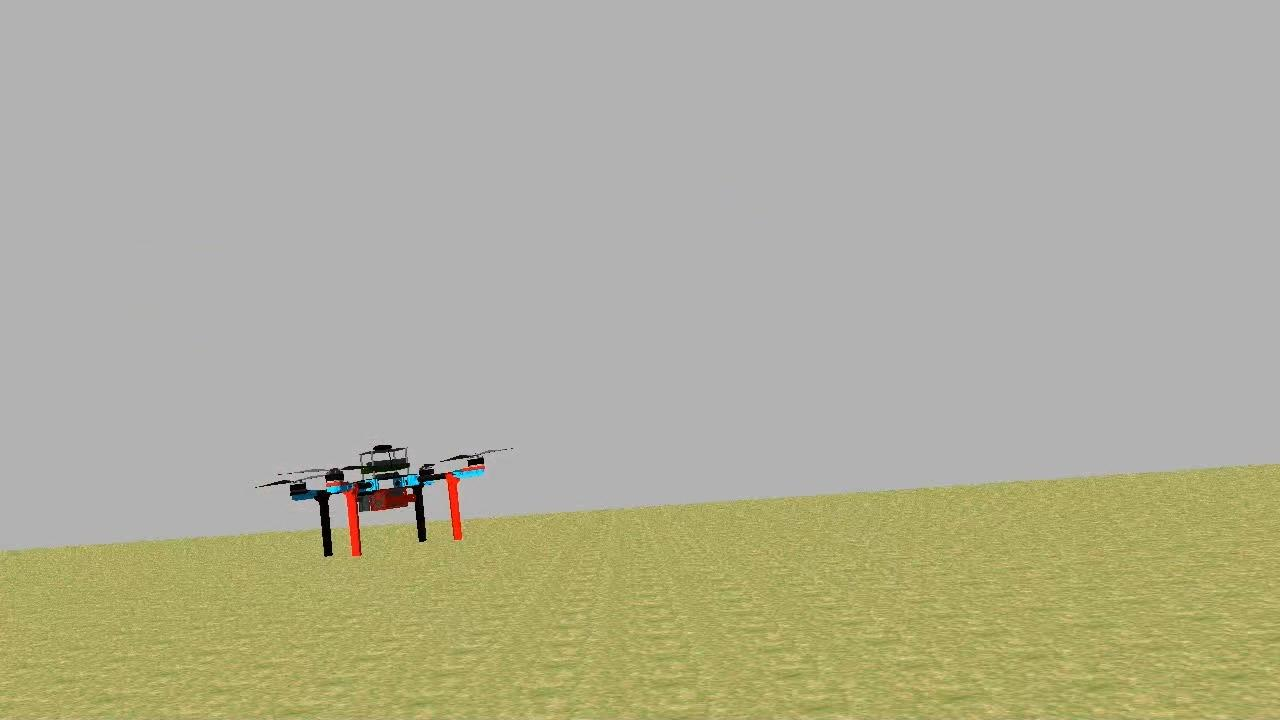UAV: (279, 436, 494, 566)
